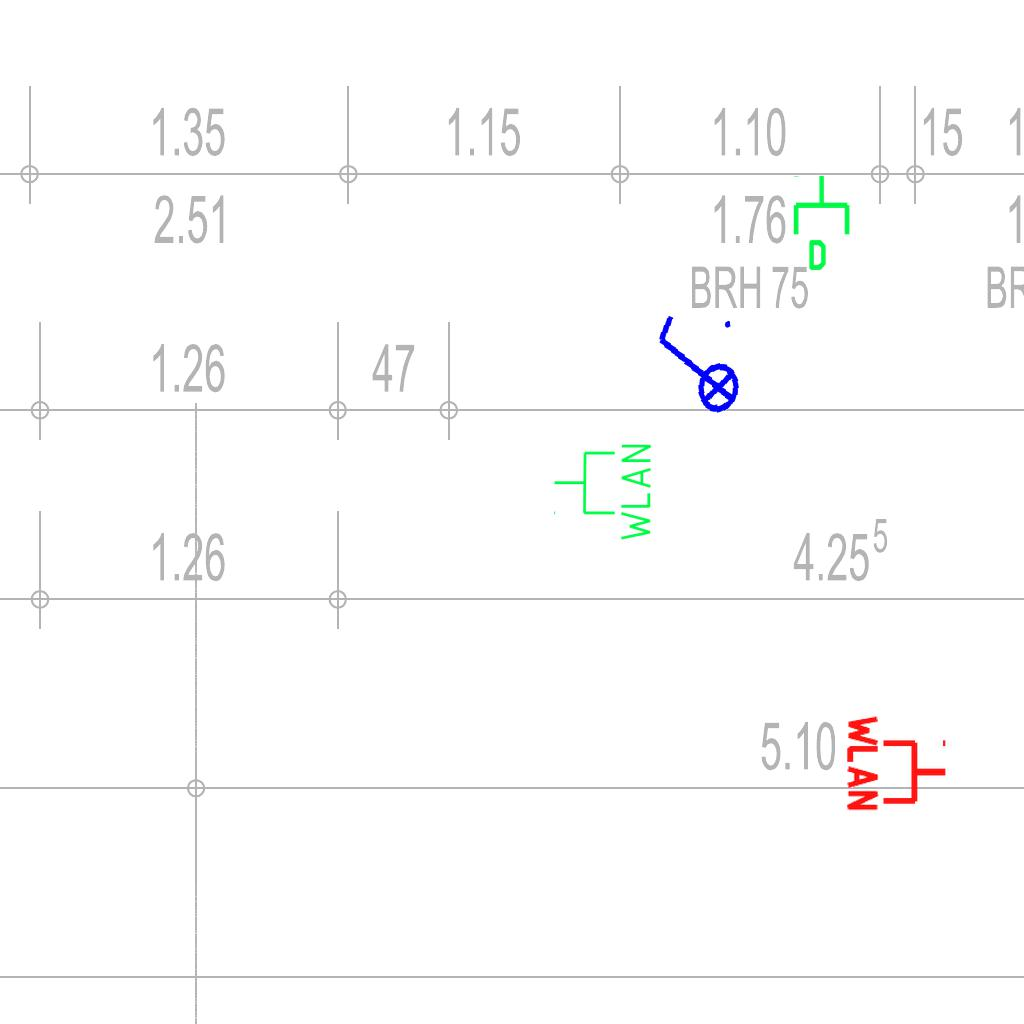Ausschalter_beleuchtet: (639, 304, 751, 430)
Datenanschluss_einfach: (789, 173, 858, 273)
WLAN: (845, 711, 950, 815), (551, 440, 655, 545)
